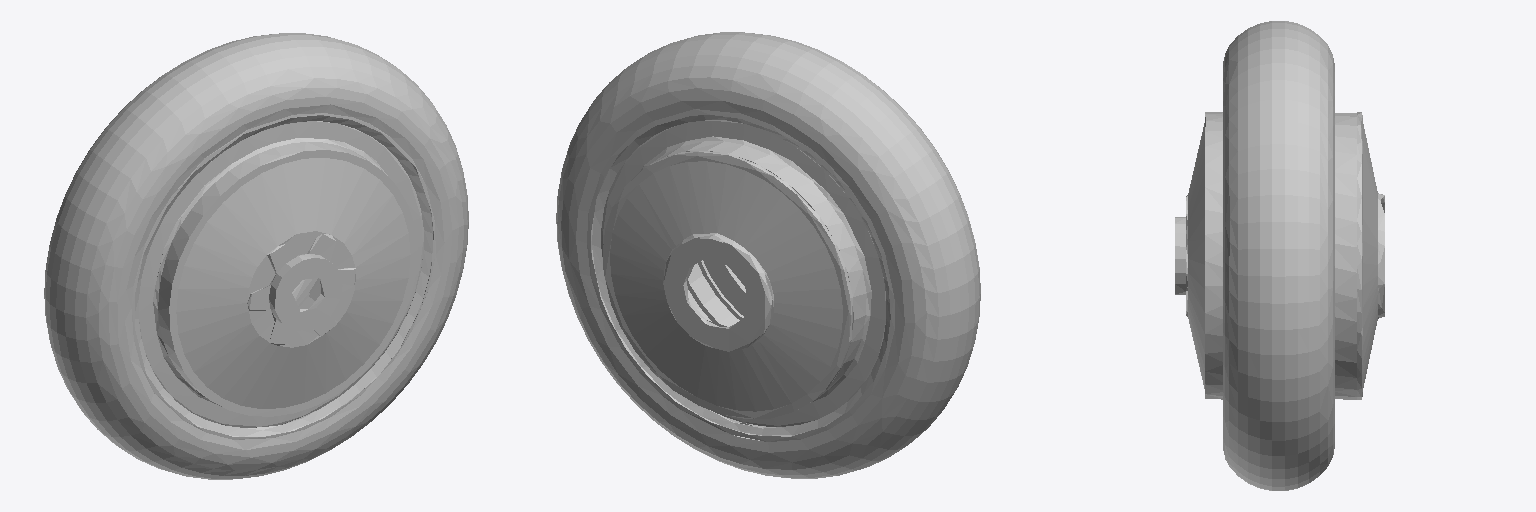
File: wheel.obj
3 renders of one model, left to right at view 1: azimuth 30°, elevation 25°; view 2: azimuth 150°, elevation 25°; view 3: azimuth 270°, elevation 25°, orthographic.
Parts seen in each view (by area): view 1: wheel; view 2: wheel; view 3: wheel.
Boxes of the visible parts, x1=… form: wheel: x1=44, y1=33, x2=468, y2=479; wheel: x1=556, y1=32, x2=980, y2=478; wheel: x1=1175, y1=21, x2=1384, y2=490.
Size of the model in its own units: 0.1966 by 0.1963 by 0.0877.